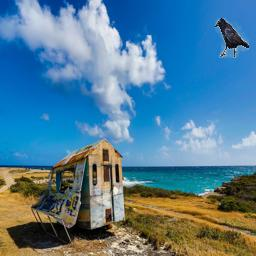Crow: (215, 18, 249, 58)
